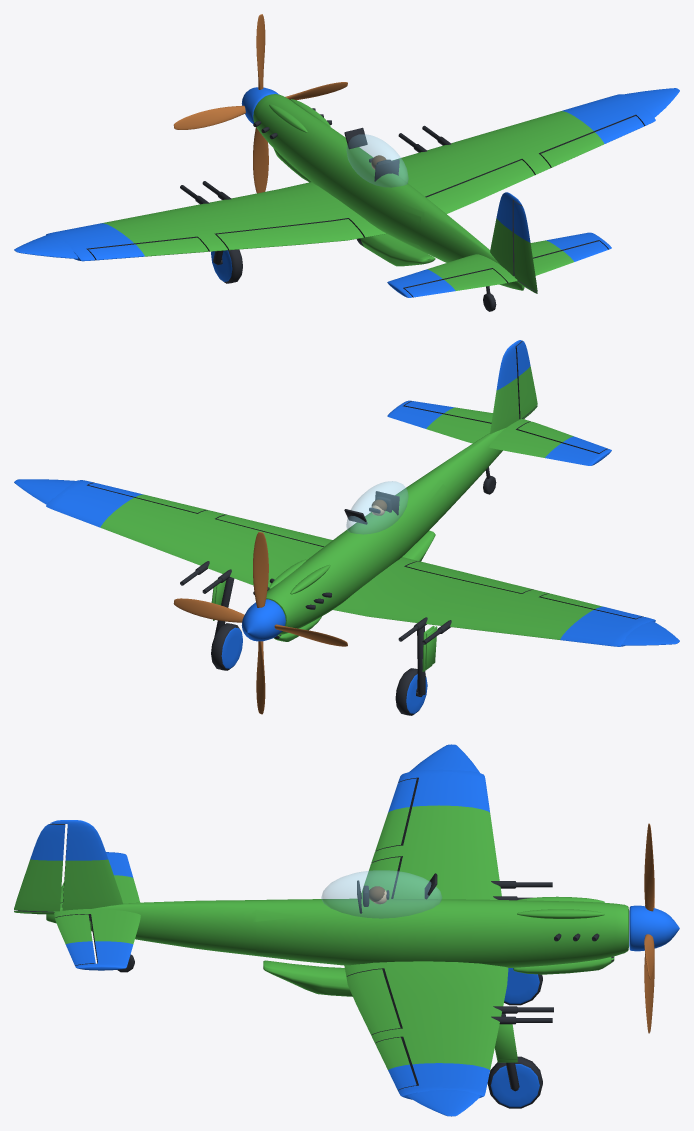
File: mustang.glb
3 views of the same model, one above another, from view 1: azimuth 30°, elevation 25°; view 2: azimuth 150°, elevation 25°; view 3: azimuth 270°, elevation 25° (orthographic). The views are drawn at different scales.
Visible parts, largest first — view 1: Fuselage, WingL, WingR, WingTipR, WingTipL, PropellerMesh4, Engine, Tail, FlapL, CanopyMesh, FlapR, StabiliserL (+12 smaller); view 2: Fuselage, WingL, WingTipR, WingR, WingTipL, Engine, PropellerMesh4, Tail, CanopyMesh, StabiliserL, StabiliserR, GearL_heavy (+13 smaller); view 3: Fuselage, WingR, Engine, WingTipL, Tail, WingTipR, WingL, CanopyMesh, Fin, Rudder, GearR_heavy, StabiliserR (+13 smaller).
Boxes of the visible parts, <box> form: Fuselage: <box>301,127,438,266</box>; WingL: <box>168,184,370,250</box>; WingR: <box>393,132,542,197</box>; WingTipR: <box>490,94,655,171</box>; WingTipL: <box>46,210,219,261</box>; PropellerMesh4: <box>173,14,347,193</box>; Engine: <box>253,94,332,178</box>; Tail: <box>417,207,524,290</box>; FlapL: <box>216,219,363,250</box>; CanopyMesh: <box>346,134,408,187</box>; FlapR: <box>426,160,534,213</box>; StabiliserL: <box>387,254,514,297</box>; Fuselage: <box>313,474,447,612</box>; WingL: <box>345,560,540,631</box>; WingTipR: <box>46,480,217,552</box>; WingR: <box>166,512,323,587</box>; WingTipL: <box>489,591,655,646</box>; Engine: <box>253,554,343,635</box>; PropellerMesh4: <box>173,532,347,714</box>; Tail: <box>425,419,524,515</box>; CanopyMesh: <box>346,481,408,534</box>; StabiliserL: <box>489,419,611,465</box>; StabiliserR: <box>387,400,491,443</box>; GearL_heavy: <box>395,626,437,715</box>; Fuselage: <box>256,885,508,996</box>; WingR: <box>346,963,507,1038</box>; Engine: <box>507,900,628,967</box>; WingTipL: <box>373,769,496,857</box>; Tail: <box>46,900,256,955</box>; WingTipR: <box>373,1030,496,1099</box>; WingL: <box>371,849,501,899</box>; CanopyMesh: <box>321,870,441,918</box>; Fin: <box>14,820,122,914</box>; Rudder: <box>14,823,65,911</box>; GearR_heavy: <box>487,1013,542,1108</box>; StabiliserR: <box>54,910,140,970</box>.
Bounding box in the file's own units: 12.97 × 3.83 × 9.83.
